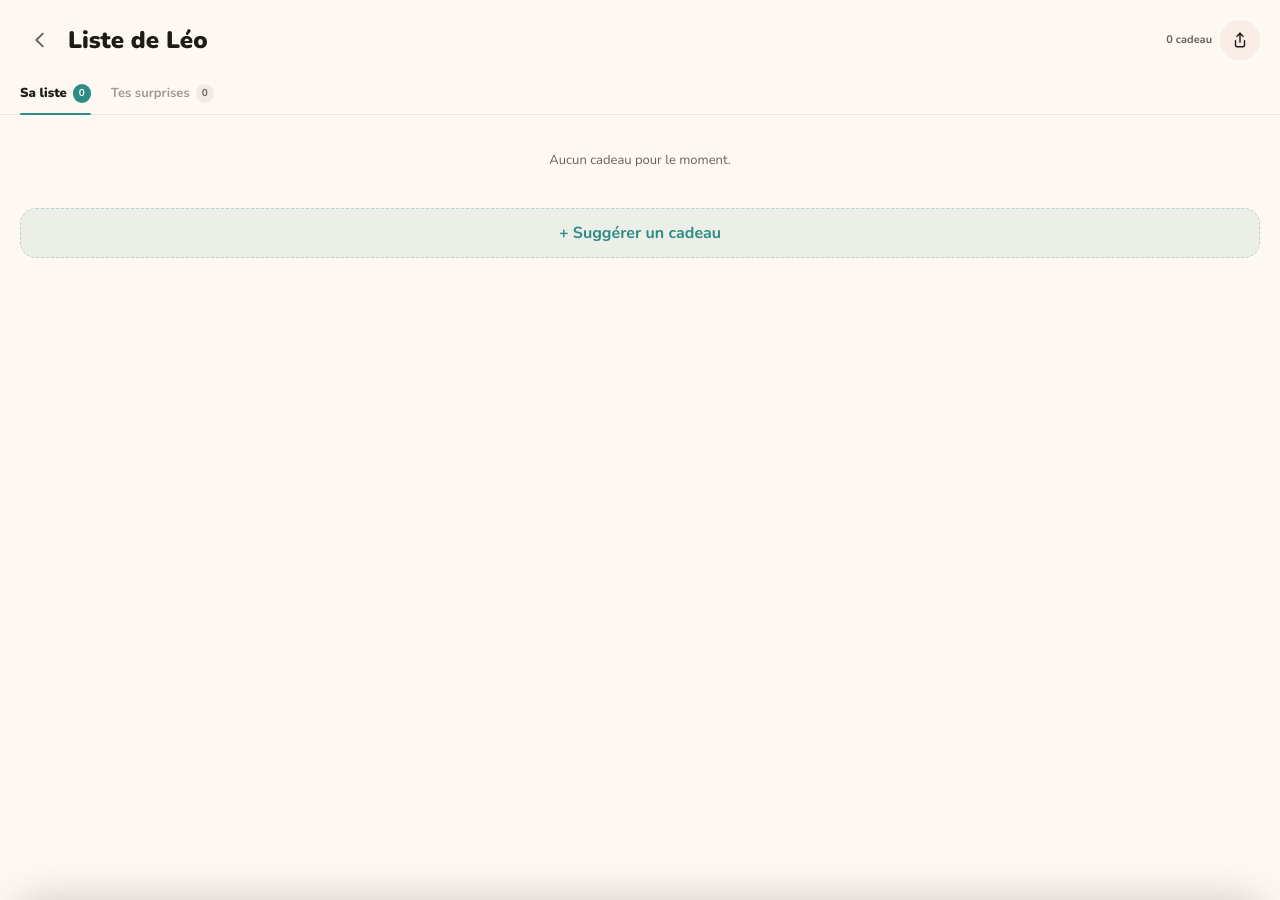
Test: GiftListPage — sharing a child list › generates a share link for the child through the child endpoint
The image size is (1280, 900).
Click the button named "Partager" at (1240, 40), box [1220,20,1260,60]
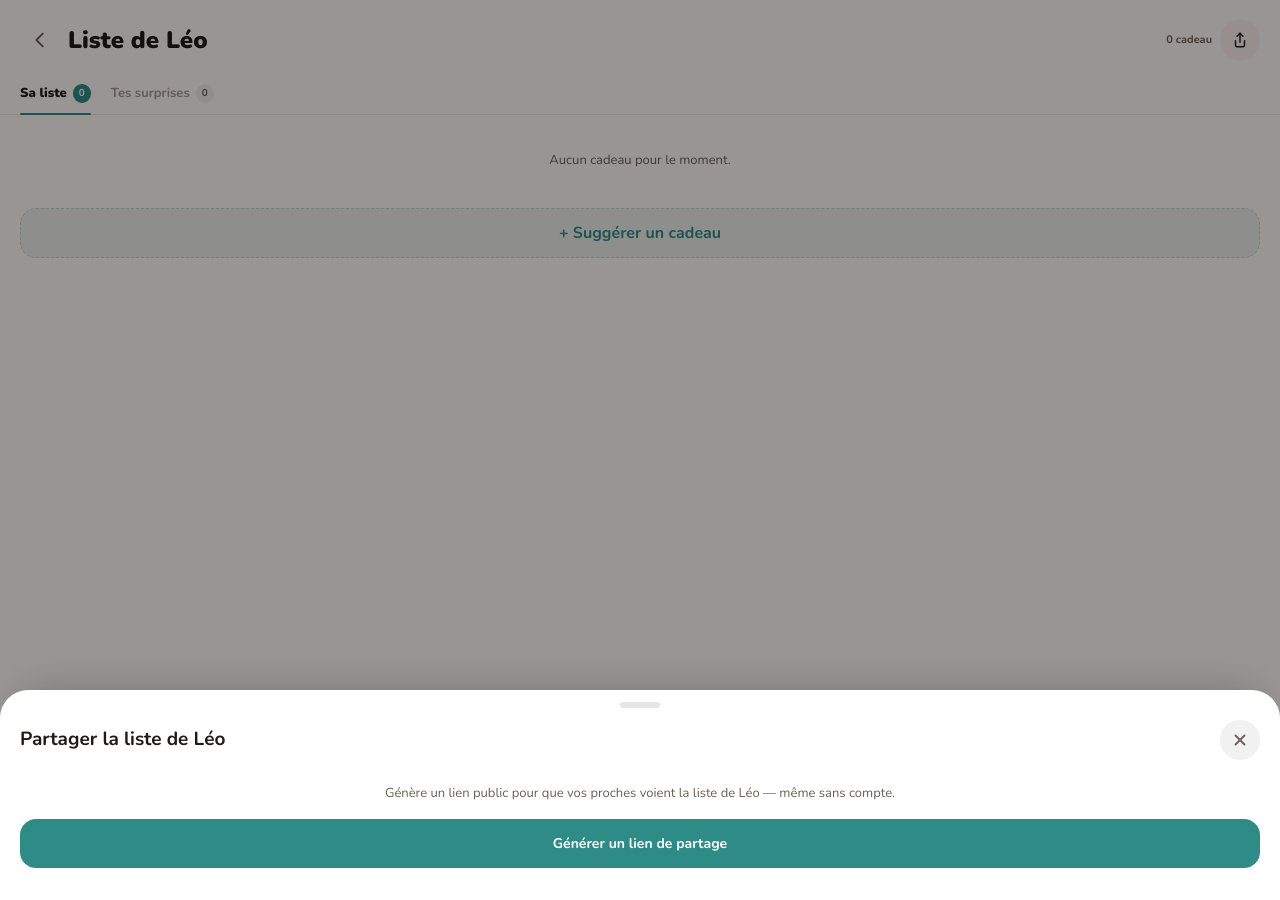
Click the button "Générer un lien de partage" at (640, 844), box [20,819,1260,868]
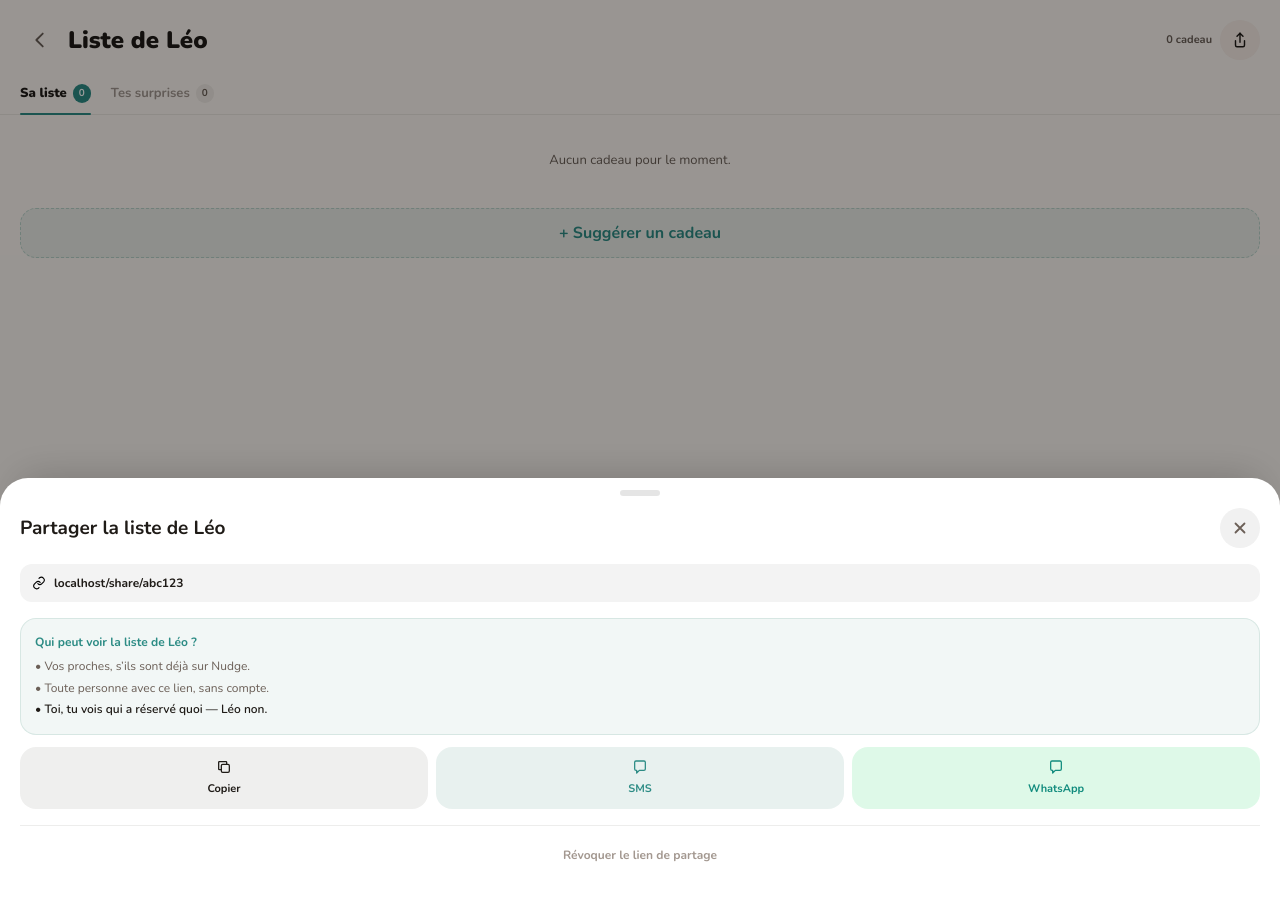
Check: the text "localhost/share/abc123" is shown, box [54,574,183,592]
Check: the text "Qui peut voir la liste de Léo ?" is shown, box [35,634,197,650]
